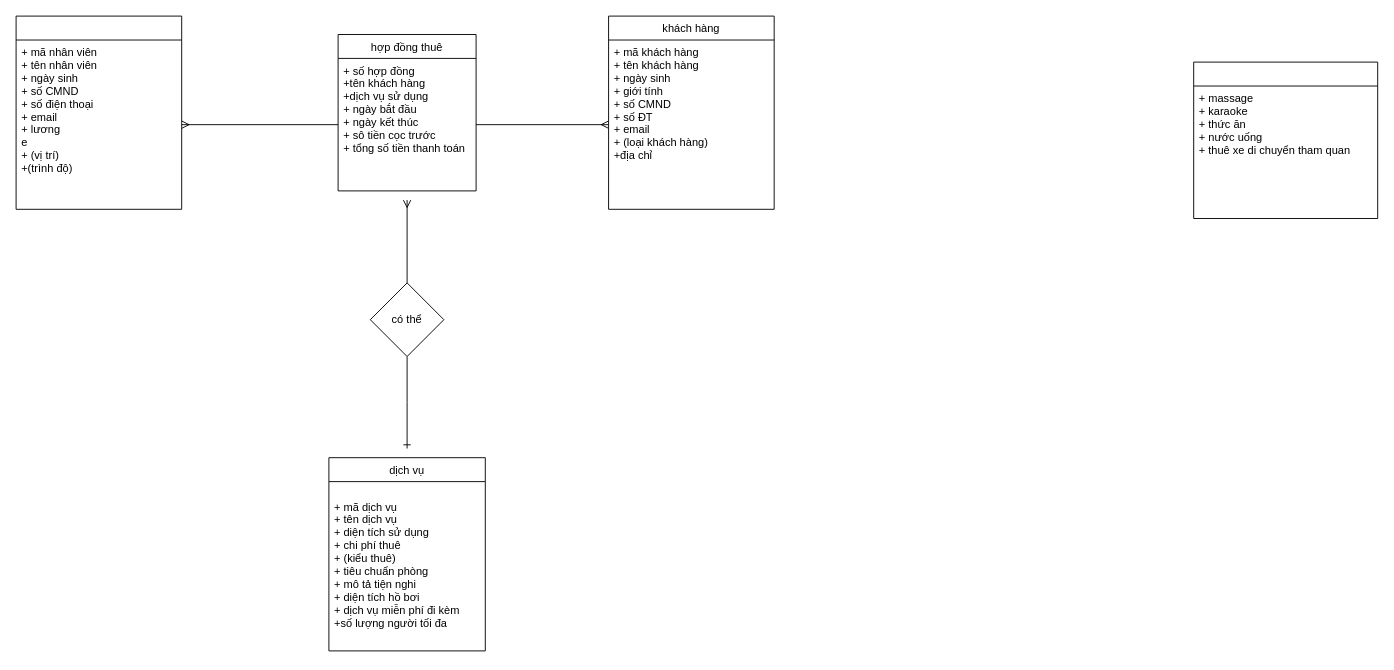
This 1394x670 diagram has some shape labels left out. The box of each missing label's shape, as (x1, y1, x2, y2) in pixels:
dịch vụ đi kèm: (1193, 61, 1378, 218)
nhan viên: (15, 15, 182, 209)
